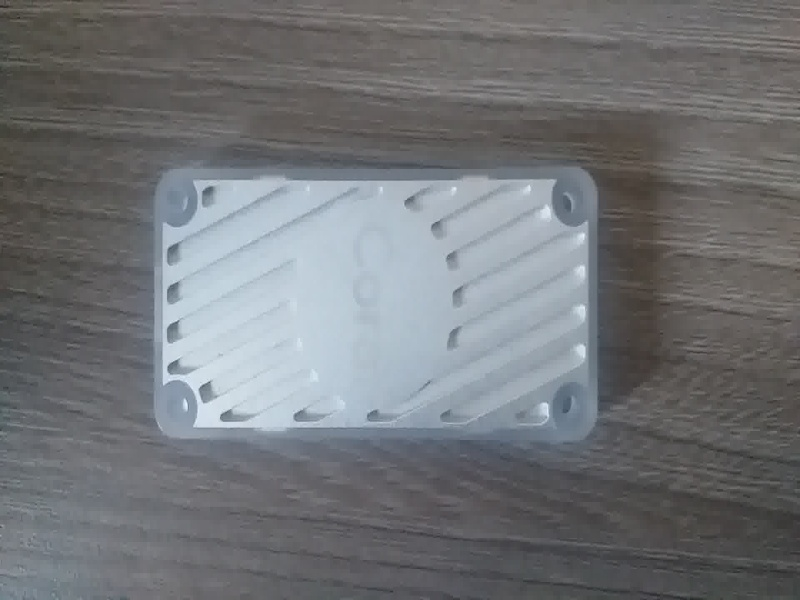coral: (144, 159, 631, 463)
